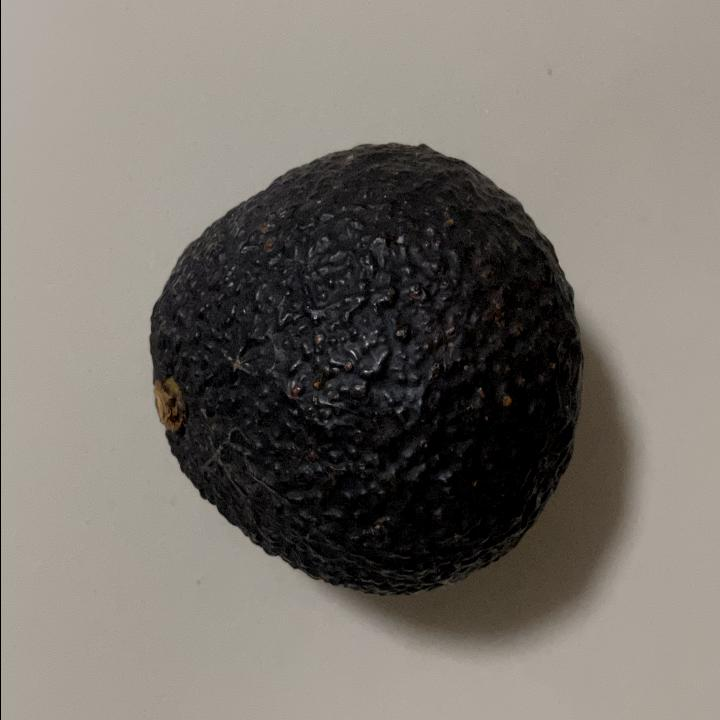Level2: (138, 135, 586, 604)
